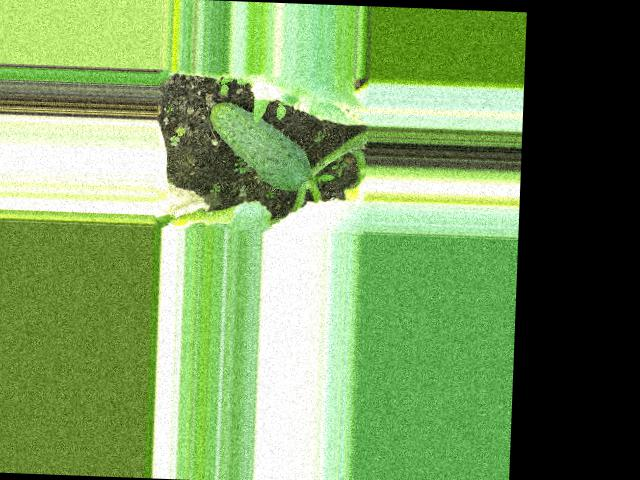cucumber: (207, 101, 314, 192)
